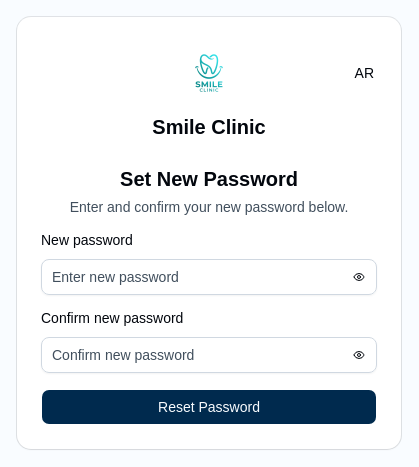
it: ResetPasswordPage happy-path (US1) › disables submit button and shows pending state while submitting (RP-VT-011)
In the password field labelled "New password": (209, 277) [41,259,377,295], type "newStrongPassword1"
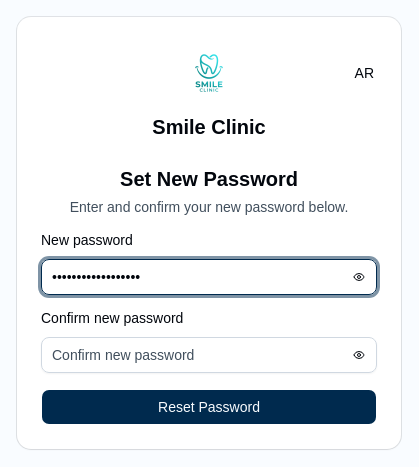
In the password field labelled "Confirm new password": (209, 355) [41,337,377,373], type "newStrongPassword1"
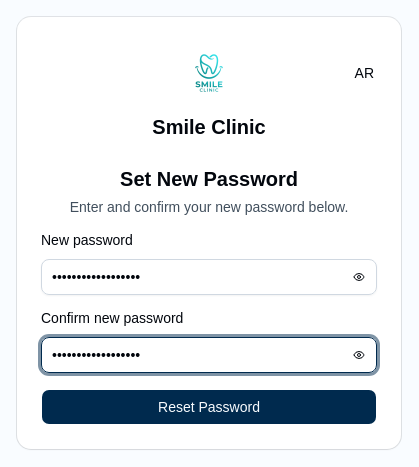
Click the button "Reset Password": click(209, 407) [41,389,377,425]
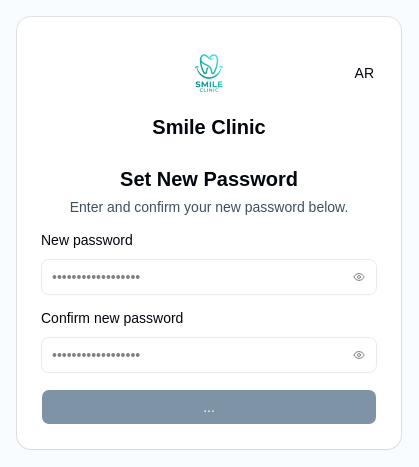
expect the button "..." is disabled: met, box [41,389,377,425]
